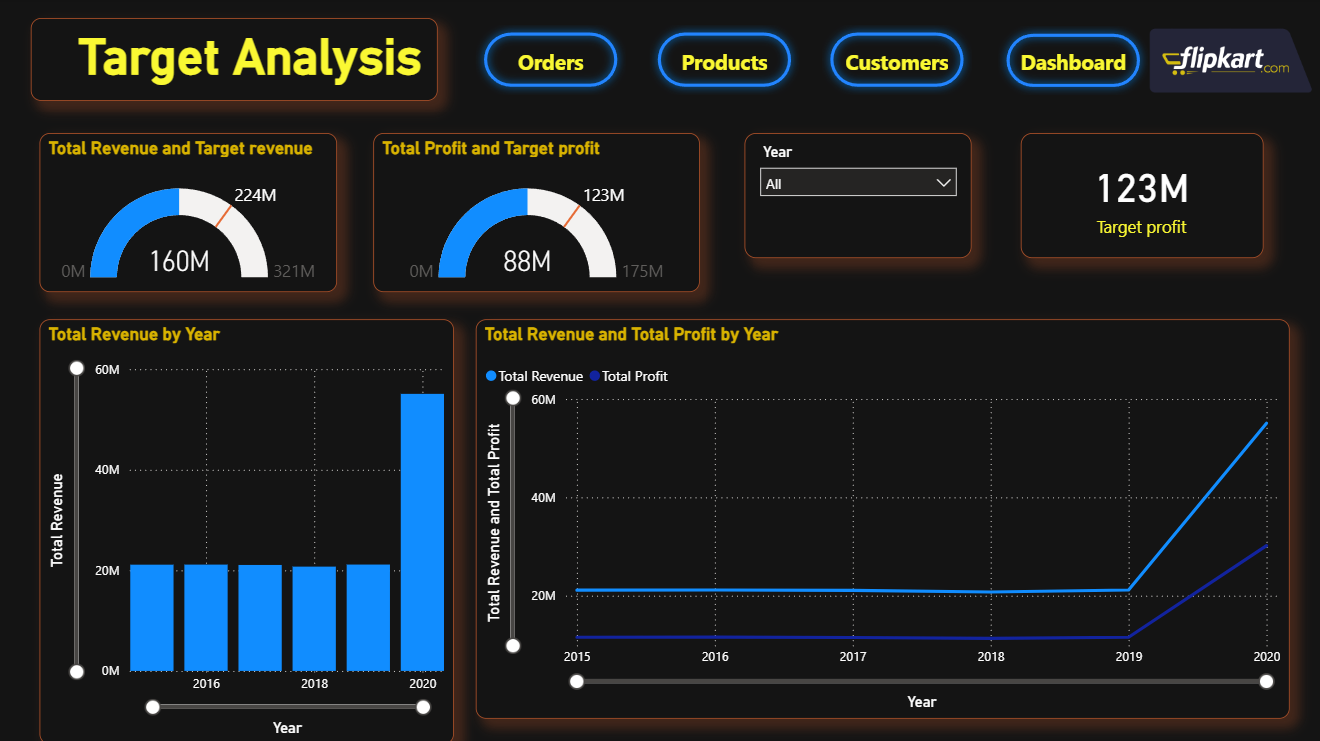

The page's visual inventory and layout, read from the dashboard file:
{"tool":"powerbi","page":{"name":"Target Sale Analysis","canvas":[1280,720],"ordinal":7},"visuals":[{"type":"textbox","box":[32.6,19.5,392.9,80.3],"z":0},{"type":"gauge","fields":{"Y":["All Measure.Total Revenue"],"TargetValue":["All Measure.Target revenue"]},"box":[40.5,130.4,287.1,153.2],"z":1000},{"type":"gauge","fields":{"Y":["All Measure.Total Profit"],"TargetValue":["All Measure.Target profit"]},"box":[362.9,130.4,315.3,153.2],"z":2000},{"type":"columnChart","fields":{"Category":["Calendar.Year"],"Y":["All Measure.Total Revenue"]},"box":[40.5,309.6,399.9,410.4],"z":3000},{"type":"areaChart","fields":{"Category":["Calendar.Year"],"Y":["All Measure.Total Revenue","All Measure.Total Profit"]},"box":[461.5,310,785.6,385.8],"z":4000},{"type":"actionButton","box":[462.1,25.3,144.6,68.3],"z":5000},{"type":"actionButton","box":[629.8,25.3,144.6,68.3],"z":6000},{"type":"actionButton","box":[796.3,25.3,144.6,68.3],"z":7000},{"type":"actionButton","box":[966.4,26.5,144.8,67.3],"z":8000},{"type":"slicer","fields":{"Values":["Calendar.Year"]},"box":[721.5,130.3,219.6,120.6],"z":9000},{"type":"card","fields":{"Values":["All Measure.Target profit"]},"box":[988.1,130.3,234,120.6],"z":9001},{"type":"image","box":[1111.1,12.1,158.9,96.7],"z":9002}]}

Visuals, with their boxes in screenshot pixels (x1, y1, x2, y2), scaled from the page's 1280x720 canvas onto the 1320x741 screenshot:
textbox: Rect(34, 20, 439, 103)
gauge - All Measure.Total Revenue x All Measure.Target revenue: Rect(42, 134, 338, 292)
gauge - All Measure.Total Profit x All Measure.Target profit: Rect(374, 134, 699, 292)
columnChart - Calendar.Year x All Measure.Total Revenue: Rect(42, 319, 454, 740)
areaChart - Calendar.Year x All Measure.Total Revenue: Rect(476, 319, 1286, 716)
actionButton: Rect(477, 26, 626, 96)
actionButton: Rect(649, 26, 799, 96)
actionButton: Rect(821, 26, 970, 96)
actionButton: Rect(997, 27, 1146, 97)
slicer - Calendar.Year: Rect(744, 134, 971, 258)
card - All Measure.Target profit: Rect(1019, 134, 1260, 258)
image: Rect(1146, 12, 1310, 112)
